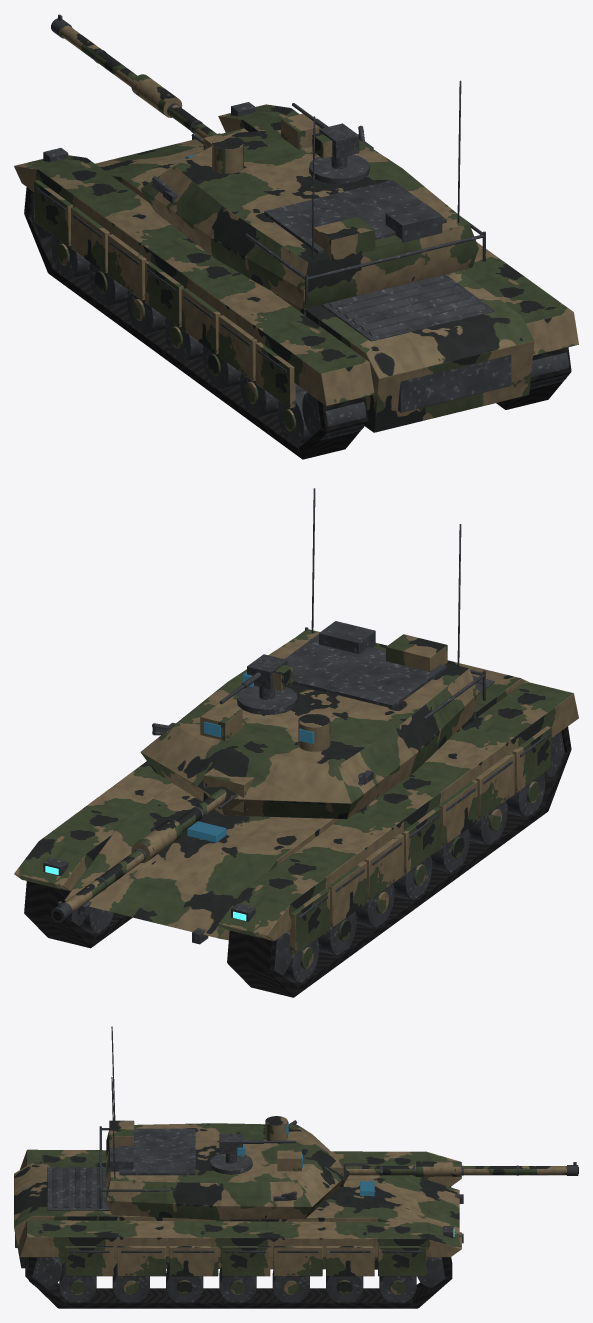
File: VEH_MBT_AbramsX.glb
3 views of the same model, one above another, from view 1: azimuth 30°, elevation 25°; view 2: azimuth 150°, elevation 25°; view 3: azimuth 270°, elevation 25° (orthographic). The views are drawn at different scales.
Parts seen in each view (by area): view 1: VEH_MBT_Hull, VEH_MBT_Turret, VEH_MBT_Cannon120mm, VEH_MBT_CROWS_RWS; view 2: VEH_MBT_Hull, VEH_MBT_Turret, VEH_MBT_Cannon120mm, VEH_MBT_CROWS_RWS; view 3: VEH_MBT_Hull, VEH_MBT_Turret, VEH_MBT_Cannon120mm, VEH_MBT_CROWS_RWS.
Boxes of the visible parts, x1,y1,x2,y2 form: VEH_MBT_Hull: (14, 102, 578, 459); VEH_MBT_Turret: (140, 80, 485, 308); VEH_MBT_Cannon120mm: (51, 14, 248, 150); VEH_MBT_CROWS_RWS: (292, 103, 359, 168); VEH_MBT_Hull: (14, 643, 578, 997); VEH_MBT_Turret: (140, 488, 485, 819); VEH_MBT_Cannon120mm: (51, 768, 254, 922); VEH_MBT_CROWS_RWS: (219, 654, 292, 704); VEH_MBT_Hull: (14, 1149, 463, 1308); VEH_MBT_Turret: (99, 1026, 349, 1219); VEH_MBT_Cannon120mm: (329, 1154, 578, 1187); VEH_MBT_CROWS_RWS: (219, 1132, 296, 1163).
Bounding box in the file's own units: 3.79 × 4.17 × 9.96.
6 materials, 6 textured.
